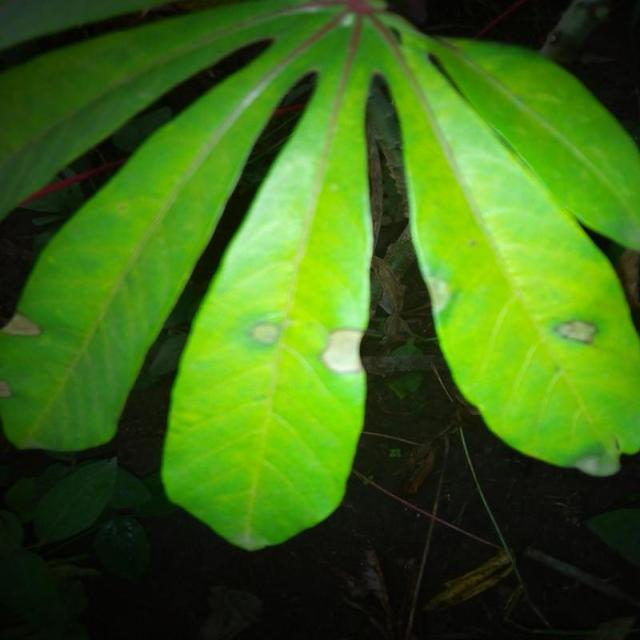cassava leaf: (2, 0, 640, 549), (384, 27, 640, 478), (160, 28, 376, 551)
